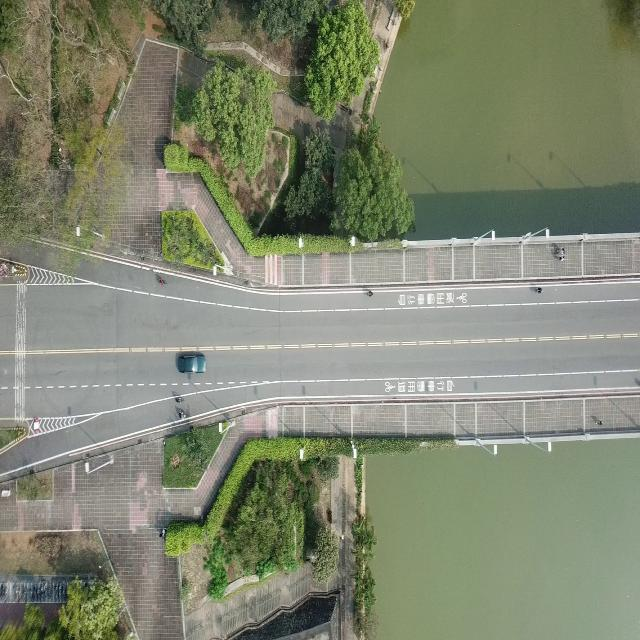vehicle: (177, 353, 207, 375), (532, 286, 544, 295), (157, 277, 167, 286), (557, 251, 565, 262), (594, 418, 603, 427), (174, 395, 184, 403), (178, 410, 187, 418), (364, 290, 373, 298), (554, 246, 562, 254), (158, 529, 164, 539)
